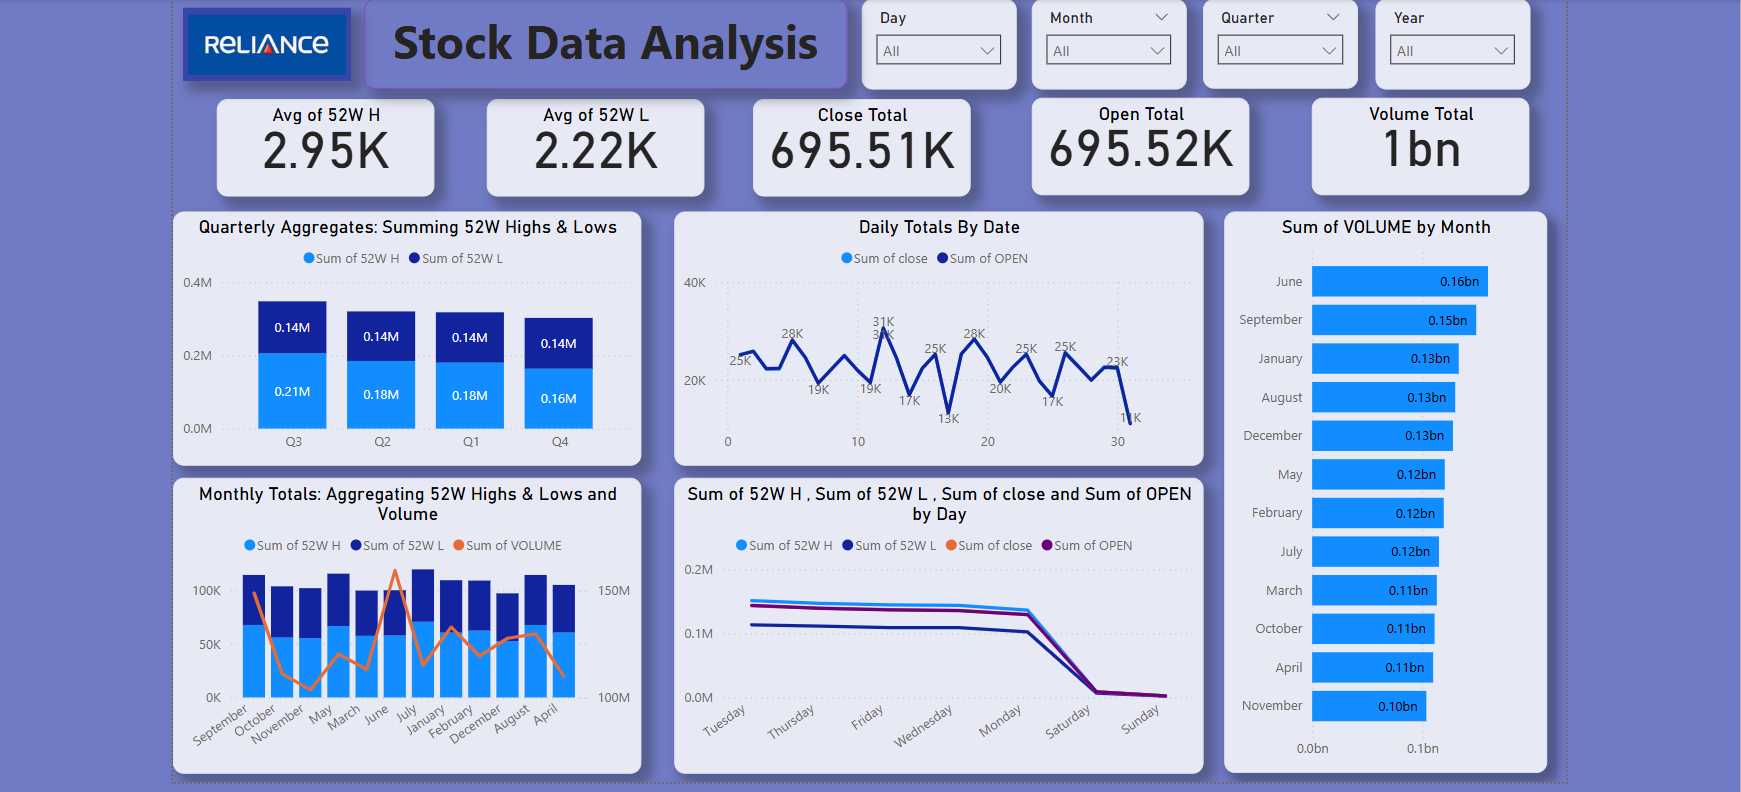

Layout of this report page (visuals, bound fields, positions):
{"tool":"powerbi","page":{"name":"Page 1","canvas":[1280,720],"ordinal":0},"visuals":[{"type":"slicer","fields":{"Values":["Reliance HD.Day"]},"box":[632.9,0,142,83],"z":0},{"type":"slicer","fields":{"Values":["Reliance HD.Month"]},"box":[789.2,0,142,83],"z":1000},{"type":"slicer","fields":{"Values":["Reliance HD.Quarter"]},"box":[946.5,0,142.4,82.7],"z":2000},{"type":"slicer","fields":{"Values":["Reliance HD.Year"]},"box":[1105,0,142,83],"z":3000},{"type":"card","title":"Avg of 52W H","fields":{"Values":["Avg(Reliance HD.52W H )"]},"box":[40.7,91.9,200,89.5],"z":4000},{"type":"card","title":"Avg of 52W L","fields":{"Values":["Avg(Reliance HD.52W L )"]},"box":[288.4,91.9,200,89.5],"z":5000},{"type":"card","title":"Close Total","fields":{"Values":["Sum(Reliance HD.close )"]},"box":[532.6,91.9,200,89.5],"z":6000},{"type":"card","title":"Open Total","fields":{"Values":["Sum(Reliance HD.OPEN )"]},"box":[789.5,90.7,200,89.5],"z":7000},{"type":"card","title":"Volume Total","fields":{"Values":["Sum(Reliance HD.VOLUME )"]},"box":[1046.5,90.7,200,89.5],"z":8000},{"type":"columnChart","title":"Quarterly Aggregates: Summing 52W Highs & Lows","fields":{"Y":["Sum(Reliance HD.52W H )","Sum(Reliance HD.52W L )"],"Category":["Reliance HD.Quarter"]},"box":[0,195.3,430.2,233.7],"z":9000},{"type":"lineStackedColumnComboChart","title":"Monthly Totals: Aggregating 52W Highs & Lows and Volume","fields":{"Category":["Reliance HD.Month"],"Y":["Sum(Reliance HD.52W H )","Sum(Reliance HD.52W L )"],"Y2":["Sum(Reliance HD.VOLUME )"]},"box":[0,439.5,430.2,272.1],"z":10000},{"type":"lineChart","title":"Daily Totals By Date","fields":{"Y":["Sum(Reliance HD.close )","Sum(Reliance HD.OPEN )"],"Category":["Reliance HD.Date .Variation.Date Hierarchy.Day"]},"box":[460.5,195.3,486,233.7],"z":11000},{"type":"lineChart","fields":{"Y":["Sum(Reliance HD.52W H )","Sum(Reliance HD.52W L )","Sum(Reliance HD.close )","Sum(Reliance HD.OPEN )"],"Category":["Reliance HD.Day"]},"box":[460.5,439.5,486,272.1],"z":12000},{"type":"barChart","fields":{"Category":["Reliance HD.Month"],"Y":["Sum(Reliance HD.VOLUME )"]},"box":[966.3,195.3,296.5,516.3],"z":13000},{"type":"image","box":[9.3,8.1,154.7,67.4],"z":14000},{"type":"textbox","box":[175.6,0,444.2,82.6],"z":15000}]}

Visuals, with their boxes in screenshot pixels (x1, y1, x2, y2):
slicer - Reliance HD.Day: rect(856, 0, 1010, 86)
slicer - Reliance HD.Month: rect(1025, 0, 1180, 86)
slicer - Reliance HD.Quarter: rect(1196, 0, 1351, 85)
slicer - Reliance HD.Year: rect(1369, 0, 1523, 86)
"Avg of 52W H" card: rect(212, 95, 429, 193)
"Avg of 52W L" card: rect(481, 95, 699, 193)
"Close Total" card: rect(747, 95, 964, 193)
"Open Total" card: rect(1026, 94, 1243, 191)
"Volume Total" card: rect(1305, 94, 1522, 191)
"Quarterly Aggregates: Summing 52W Highs & Lows" columnChart: rect(168, 208, 635, 462)
"Monthly Totals: Aggregating 52W Highs & Lows and Volume" lineStackedColumnComboChart: rect(168, 473, 635, 769)
"Daily Totals By Date" lineChart: rect(668, 208, 1196, 462)
lineChart - Sum(Reliance HD.52W H ) x Sum(Reliance HD.52W L ): rect(668, 473, 1196, 769)
barChart - Reliance HD.Month x Sum(Reliance HD.VOLUME ): rect(1218, 208, 1540, 769)
image: rect(178, 4, 346, 78)
textbox: rect(359, 0, 841, 85)
